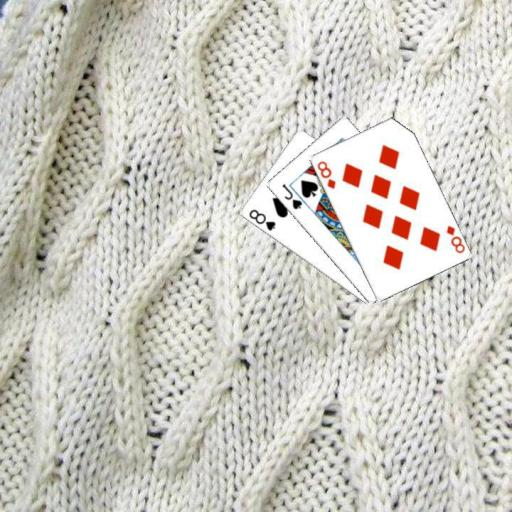8D: (314, 158, 337, 190), (443, 222, 466, 254)
8S: (245, 206, 277, 233)
JS: (279, 181, 304, 211)
